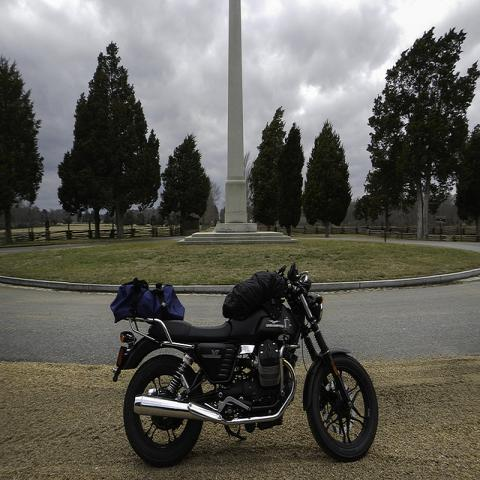motorcycle: (108, 255, 380, 462)
